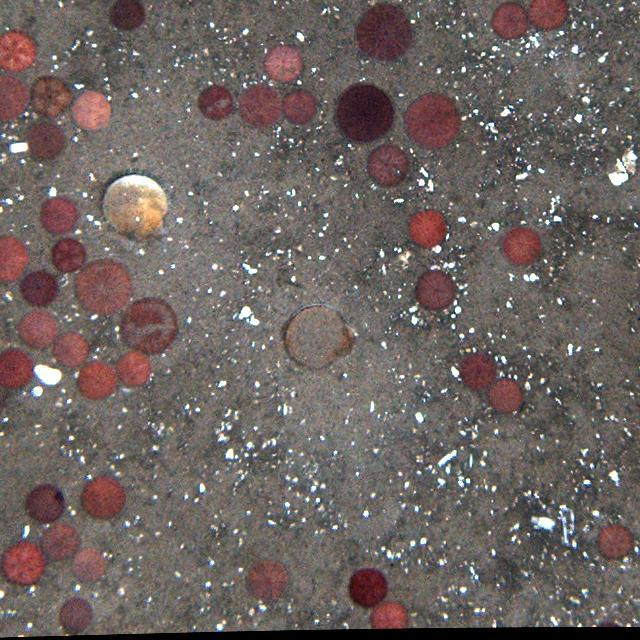scallop: (280, 300, 357, 370), (104, 174, 168, 239)
